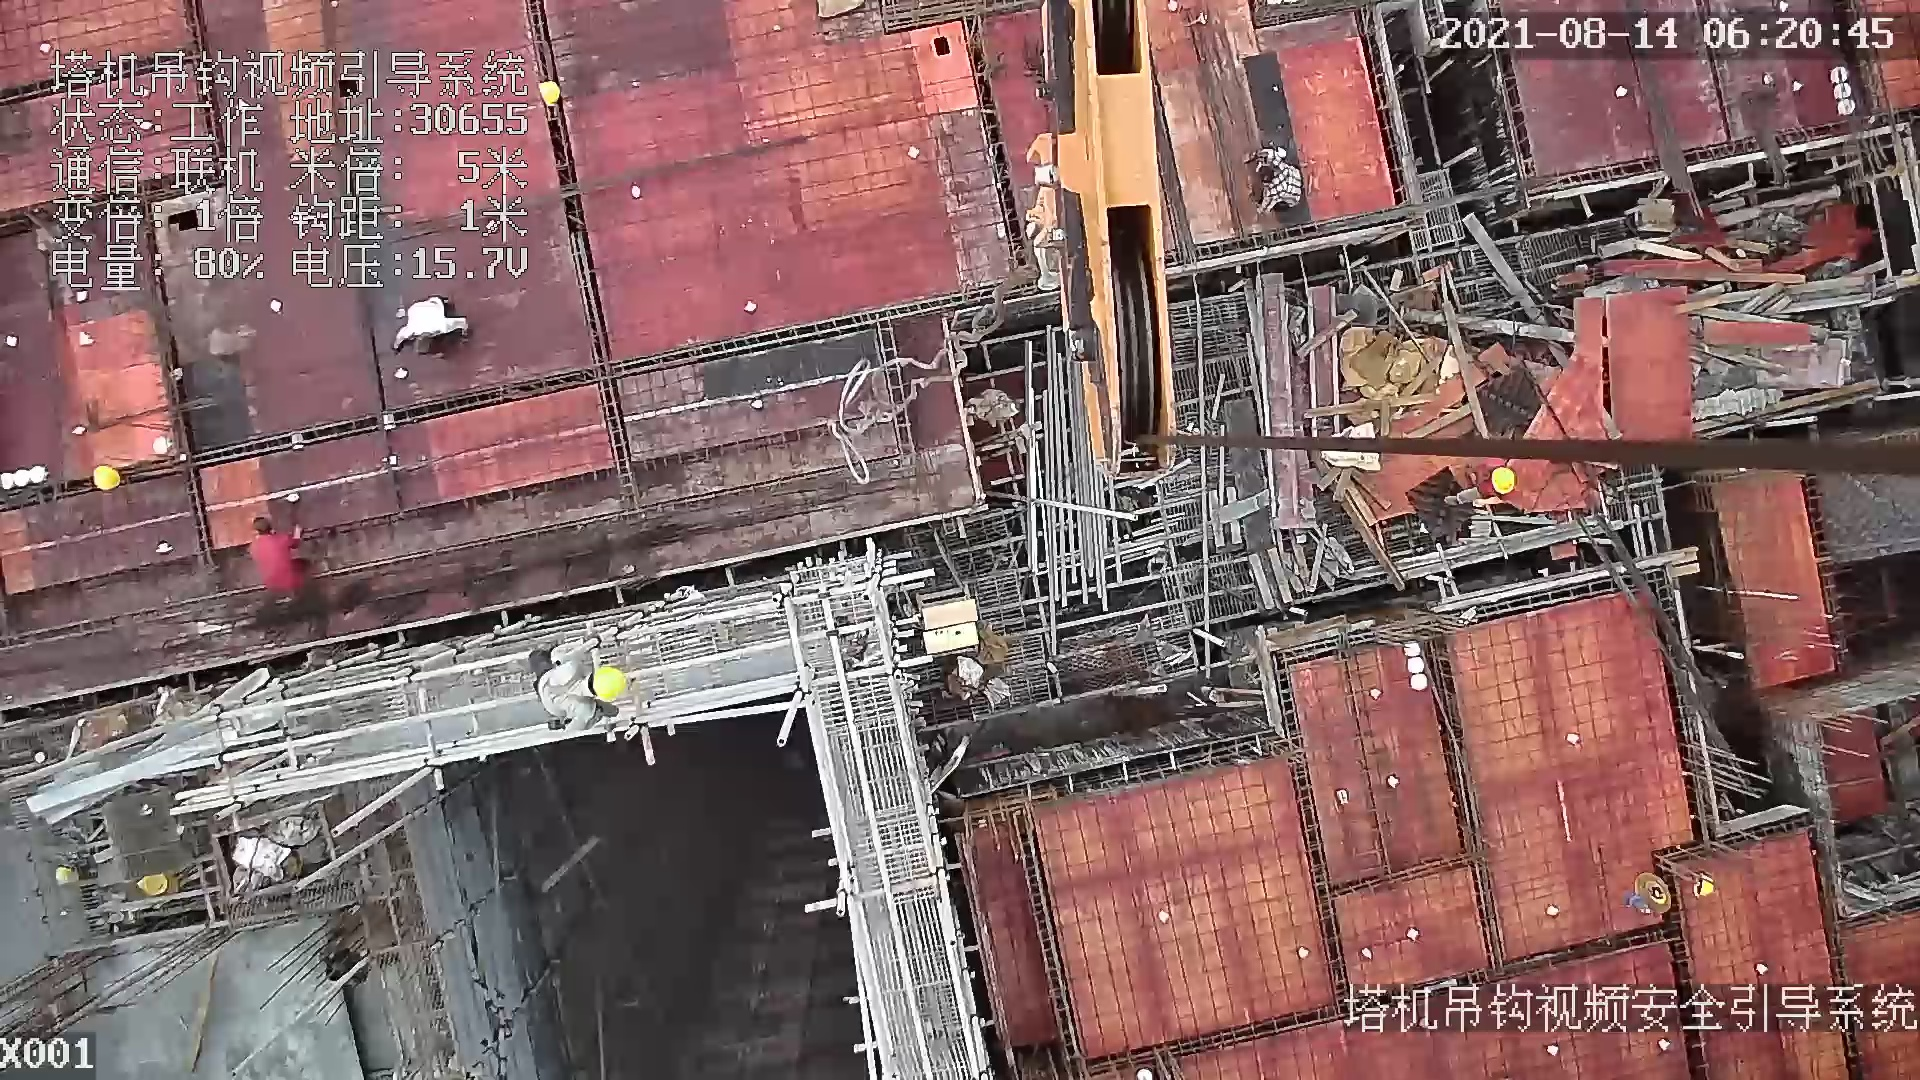helmet: (530, 66, 573, 116), (91, 447, 123, 503), (585, 665, 628, 706), (1483, 464, 1526, 497), (1692, 870, 1723, 906)
hook: (1013, 1, 1187, 485)
person: (522, 642, 627, 741), (242, 510, 329, 616), (392, 291, 472, 355), (1436, 463, 1515, 517), (1243, 146, 1306, 213)
